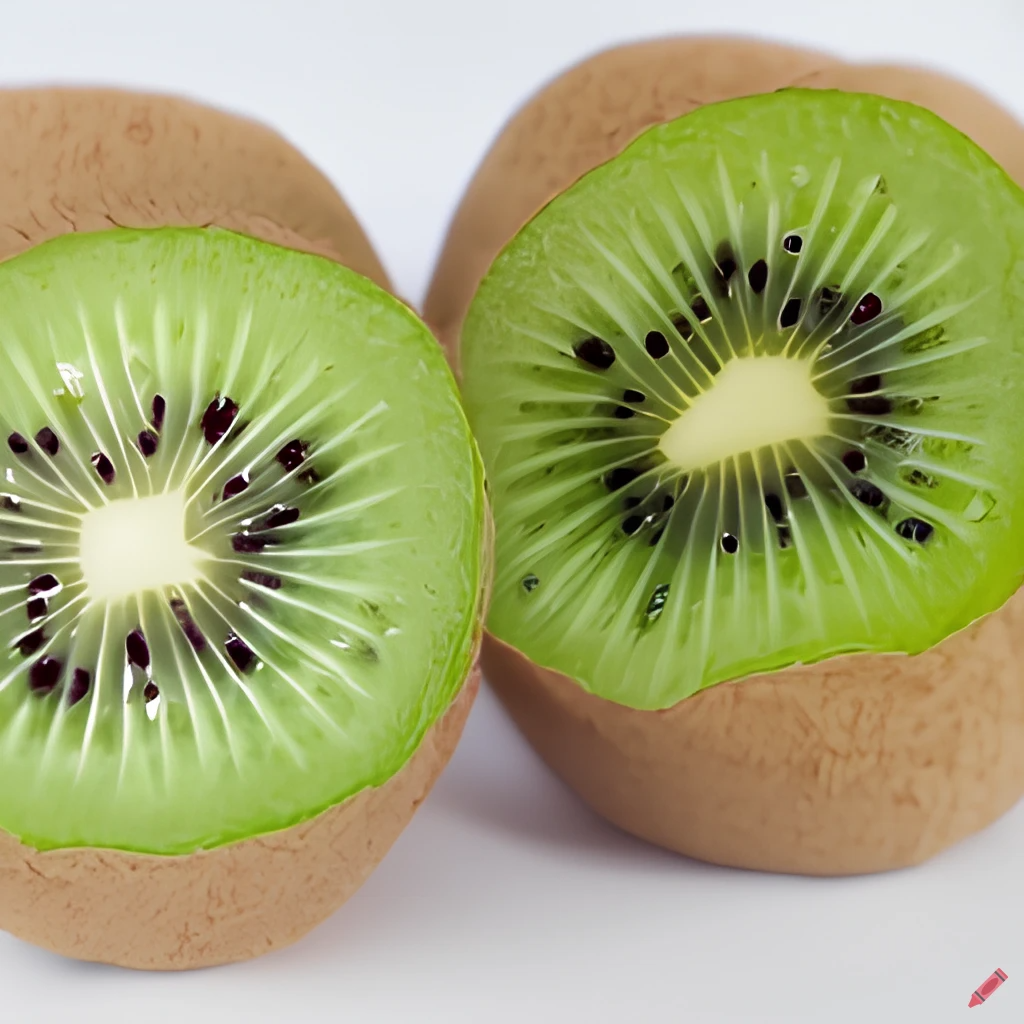Kiwi: (0, 62, 472, 926)
